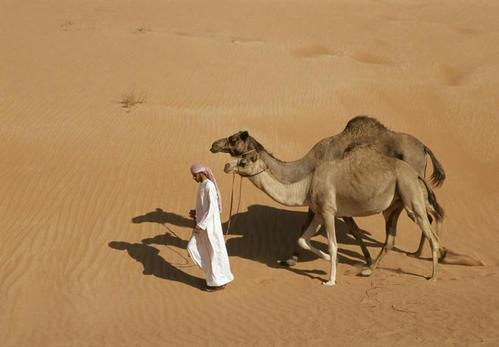up: (183, 161, 238, 294)
